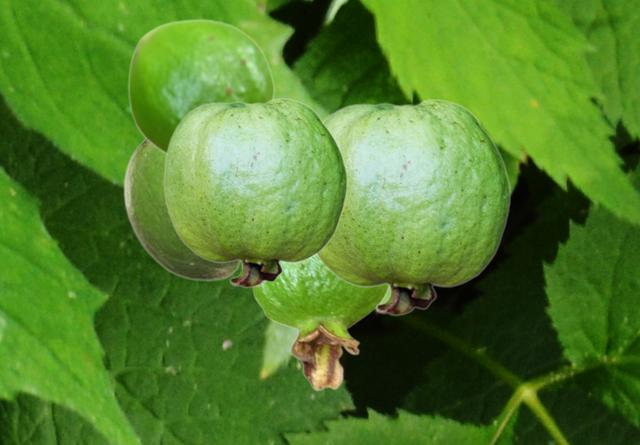guava: (316, 99, 510, 315), (163, 98, 347, 287), (122, 139, 265, 287), (127, 18, 277, 153), (252, 256, 388, 390)
